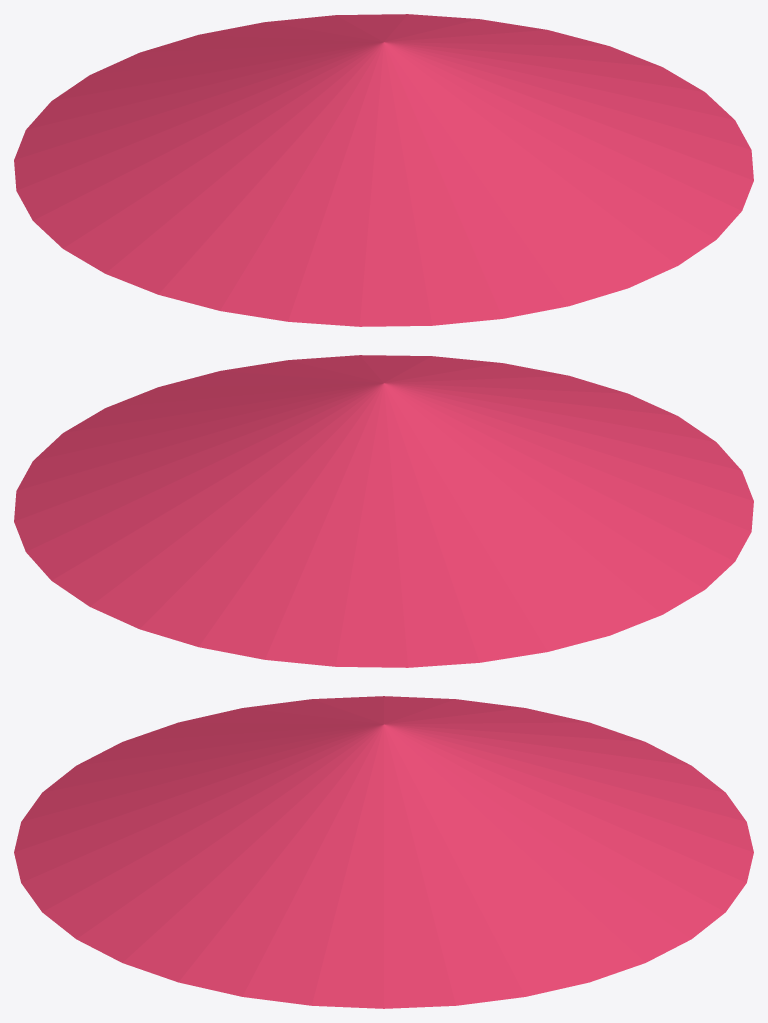
3 views of the same model, one above another, from view 1: azimuth 30°, elevation 25°; view 2: azimuth 150°, elevation 25°; view 3: azimuth 270°, elevation 25° (orthographic).
Parts seen in each view (by area): view 1: Cone; view 2: Cone; view 3: Cone.
Boxes of the visible parts, x1,y1,x2,y2 form: Cone: (14, 14, 753, 326); Cone: (14, 355, 753, 667); Cone: (14, 696, 753, 1008).
Bounding box in the file's own units: 8.07 × 1.54 × 8.07.
